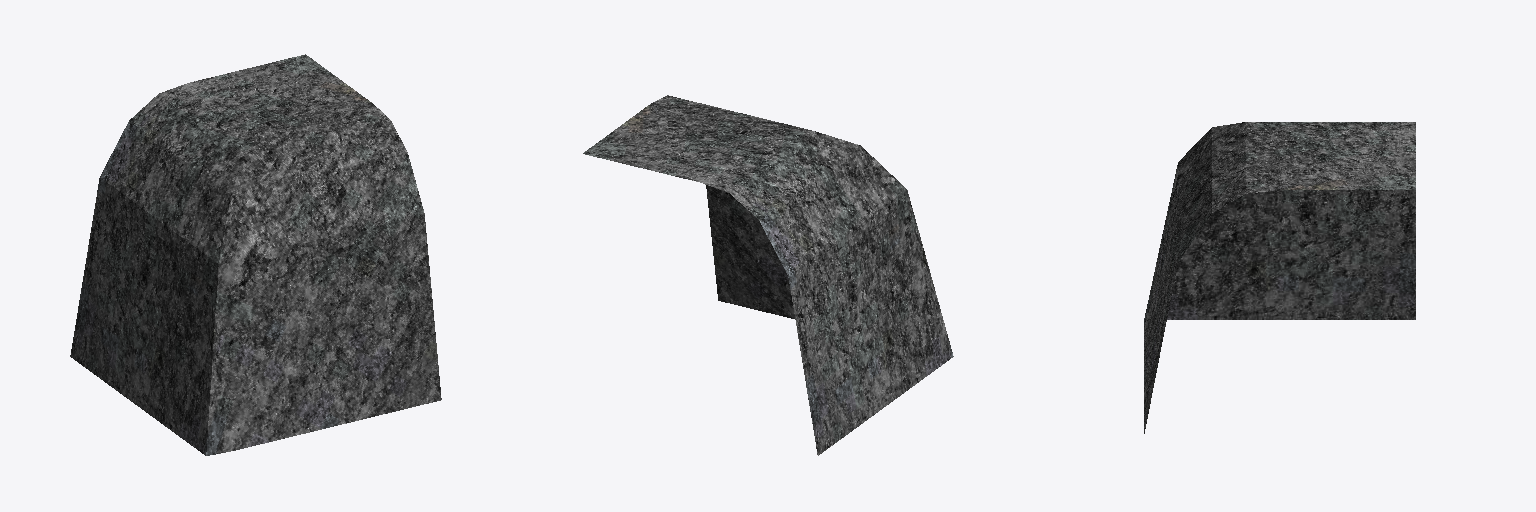
3 views of the same model, side by side, from view 1: azimuth 30°, elevation 25°; view 2: azimuth 150°, elevation 25°; view 3: azimuth 270°, elevation 25° (orthographic).
Visible parts, largest first — view 1: Grid_Grid.003; view 2: Grid_Grid.003; view 3: Grid_Grid.003.
Part boxes in pixels (x1,y1,x2,y2): Grid_Grid.003: (70, 54, 441, 455); Grid_Grid.003: (583, 95, 953, 455); Grid_Grid.003: (1144, 122, 1415, 433).
Bounding box in the file's own units: 1 × 1 × 1.
Materials: 1 (1 with a texture image).